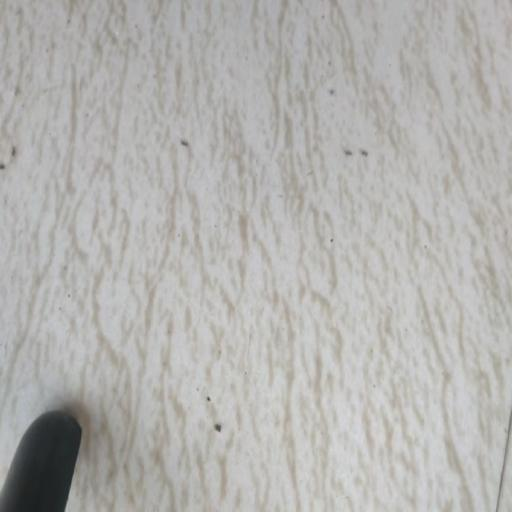Ant-Traffic: (174, 122, 197, 176), (331, 134, 354, 178), (356, 129, 374, 184), (7, 134, 26, 186)
